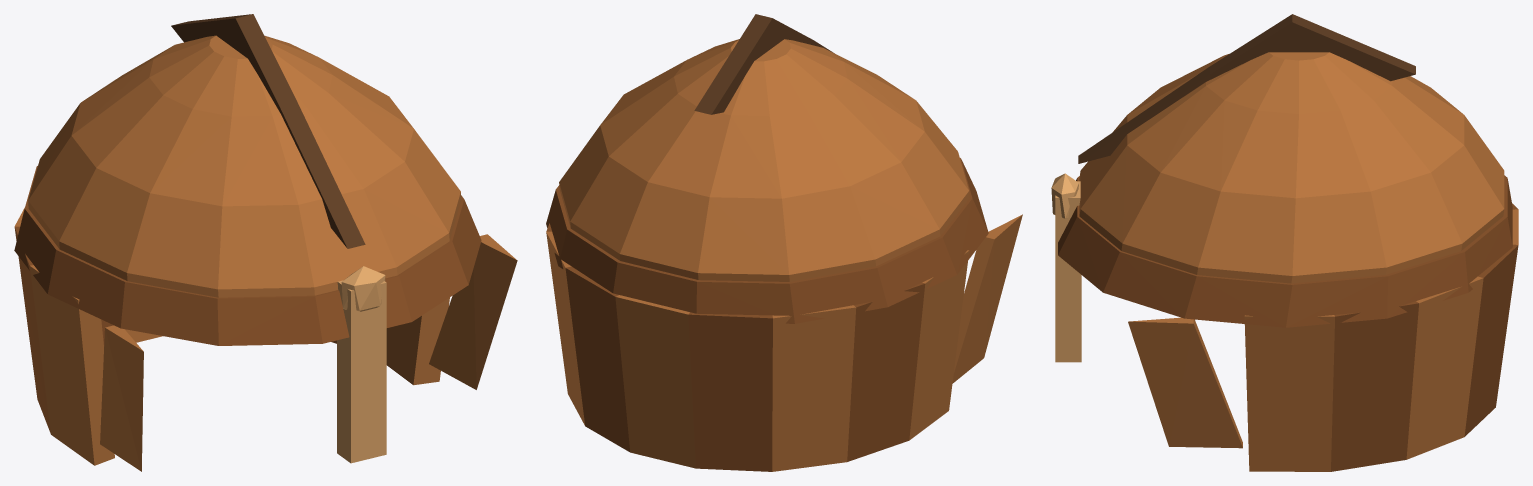
File: gear_bronze_helm.glb
The picture shows the model from 3 angles, left to right: view 1: azimuth 30°, elevation 25°; view 2: azimuth 150°, elevation 25°; view 3: azimuth 270°, elevation 25°; orthographic projection. The views are drawn at different scales.
Parts seen in each view (by area): view 1: gear_bronze_helm; view 2: gear_bronze_helm; view 3: gear_bronze_helm.
Part boxes in pixels (x1,y1,x2,y2): gear_bronze_helm: [14, 14, 517, 471]; gear_bronze_helm: [546, 14, 1022, 471]; gear_bronze_helm: [1051, 14, 1518, 471].
Size of the model in its own units: 0.268 by 0.25 by 0.2836.
